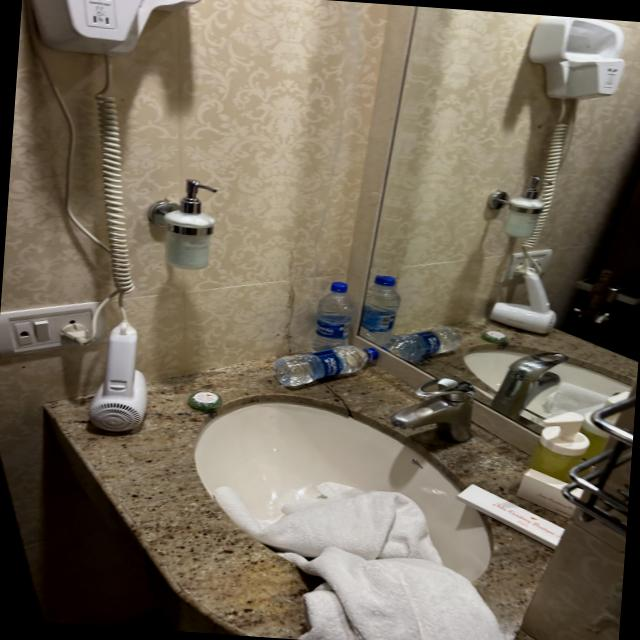mess: (0, 242, 640, 640)
